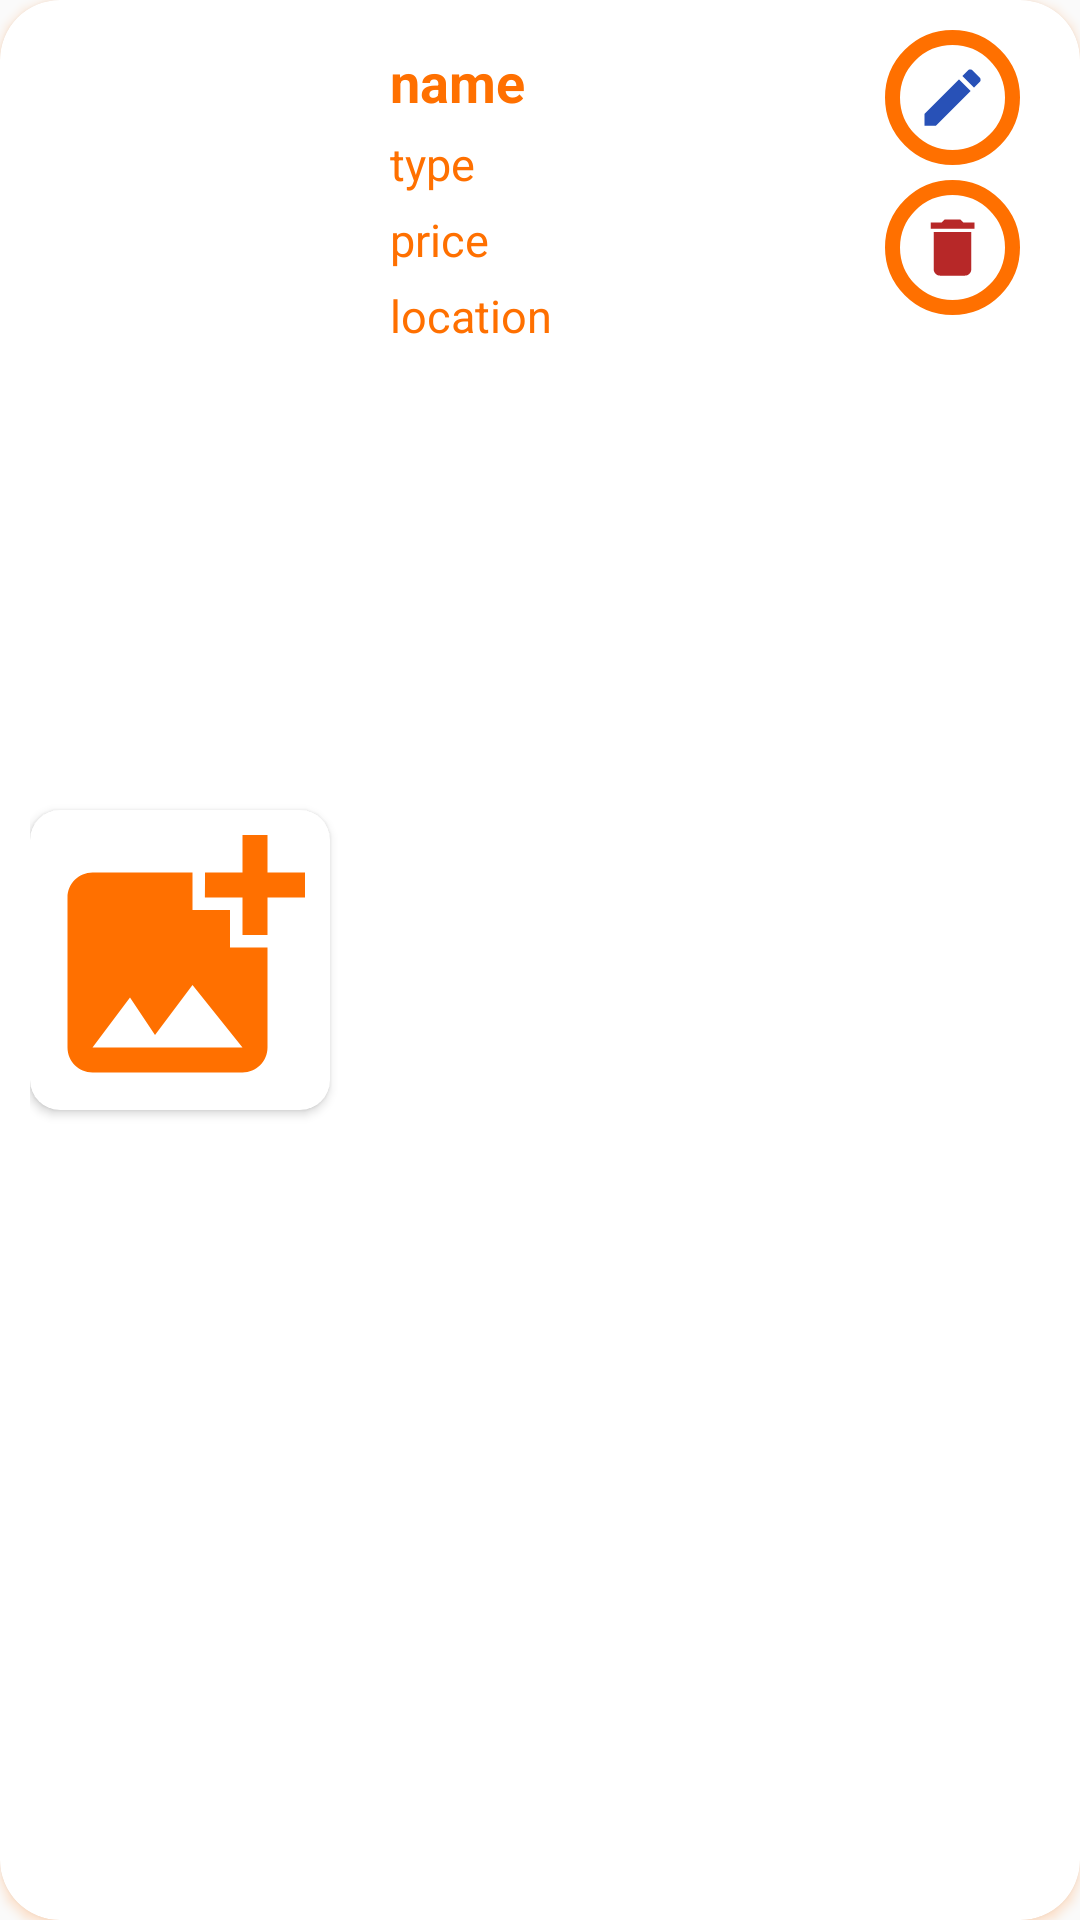

Where to tap for icons on this 1080×1920 app screen, as [x,y]:
addimageorange: [179,967]
delete: [952,247]
edit: [952,97]
